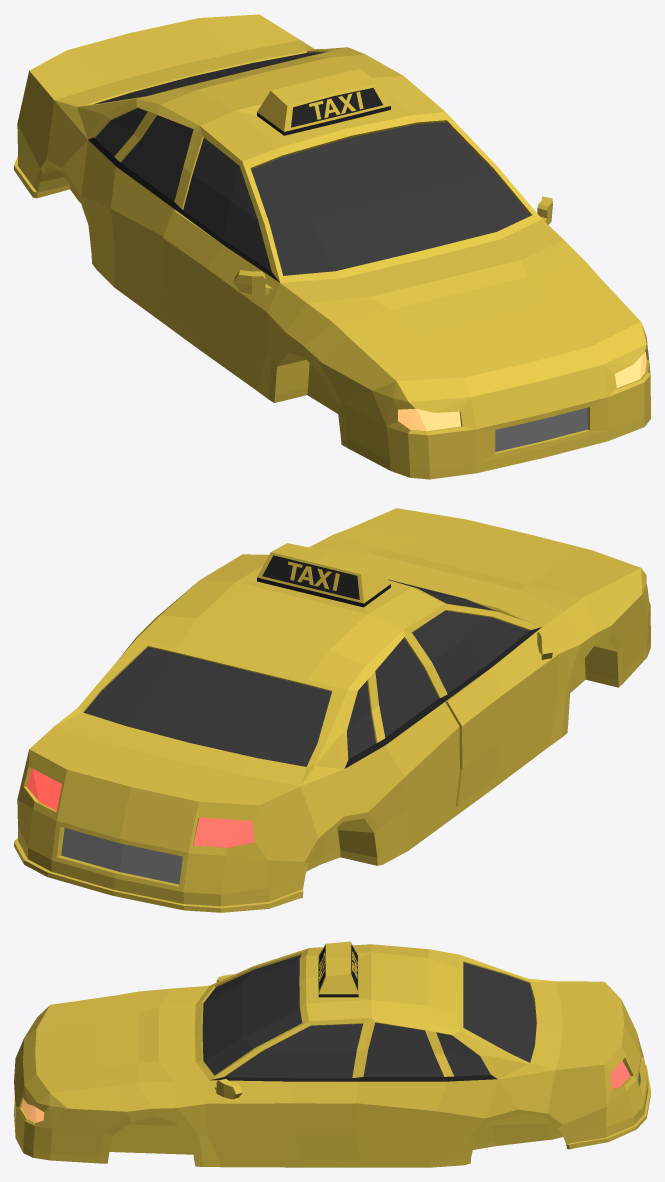
Rendered from taxi.glb.
3 renders of one model, top to bottom at view 1: azimuth 30°, elevation 25°; view 2: azimuth 150°, elevation 25°; view 3: azimuth 270°, elevation 25°, orthographic. The views are drawn at different scales.
Parts seen in each view (by area): view 1: taxi; view 2: taxi; view 3: taxi.
Boxes of the visible parts, x1,y1,x2,y2 form: taxi: [14, 14, 650, 479]; taxi: [14, 508, 650, 912]; taxi: [14, 941, 650, 1167].
Size of the model in its own units: 1.81 by 1.15 by 4.22.
